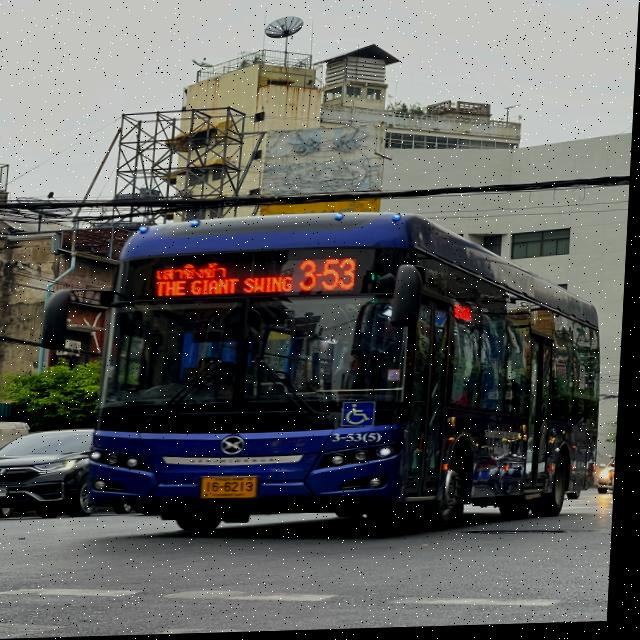Bus-Line-Number: (295, 252, 367, 299)
Destination-Sign-Normal: (148, 258, 305, 299)
TSB-Bus: (86, 209, 612, 542)
